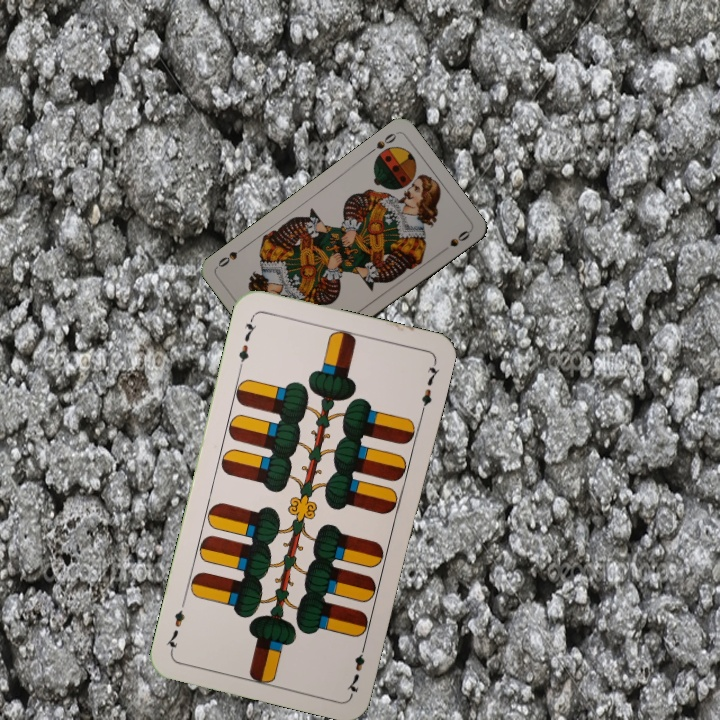E7: (234, 313, 260, 372), (343, 638, 369, 697)
SO: (364, 129, 399, 157)
